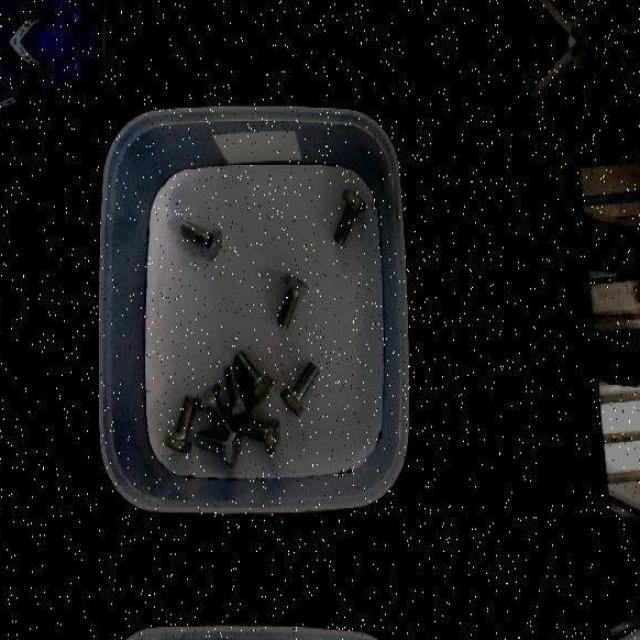screw: (279, 358, 320, 418), (234, 349, 274, 403), (164, 394, 197, 454), (333, 188, 366, 245), (277, 273, 309, 330), (234, 416, 280, 454), (180, 218, 222, 259), (197, 428, 241, 466), (224, 363, 253, 420)
